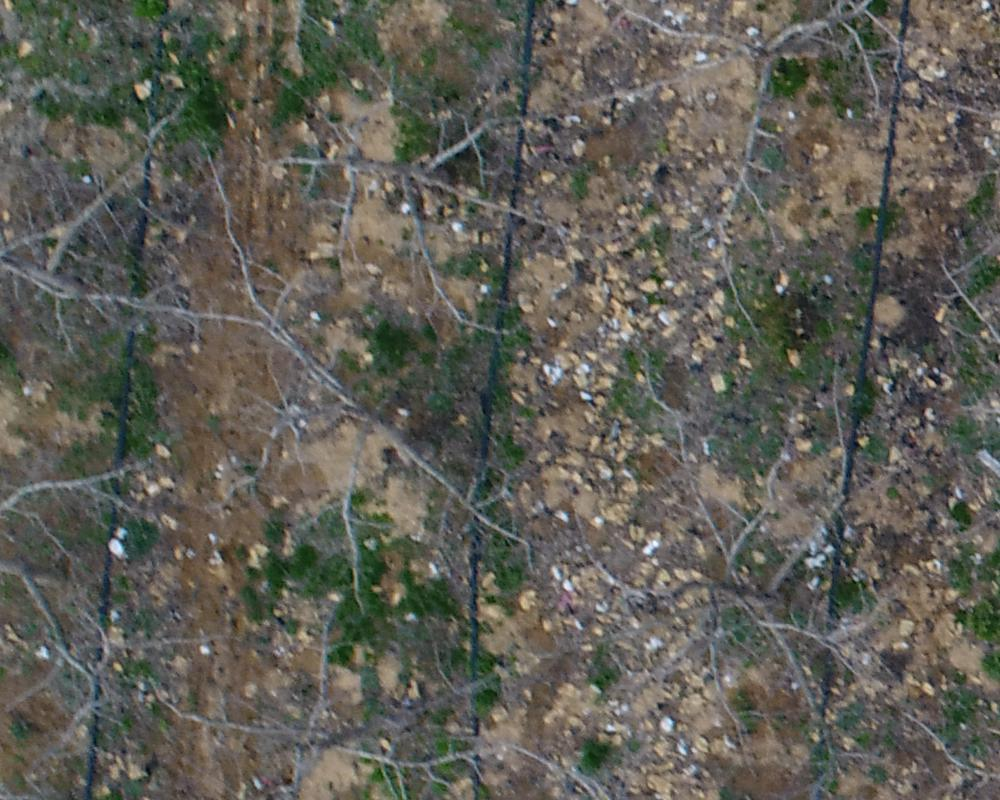apple: (160, 155, 570, 606), (578, 354, 938, 790), (581, 10, 990, 239), (10, 51, 282, 388), (260, 76, 577, 354), (132, 597, 578, 790), (10, 423, 196, 754)
